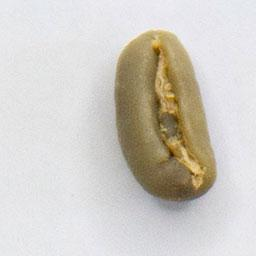longberry: (110, 26, 220, 204)
